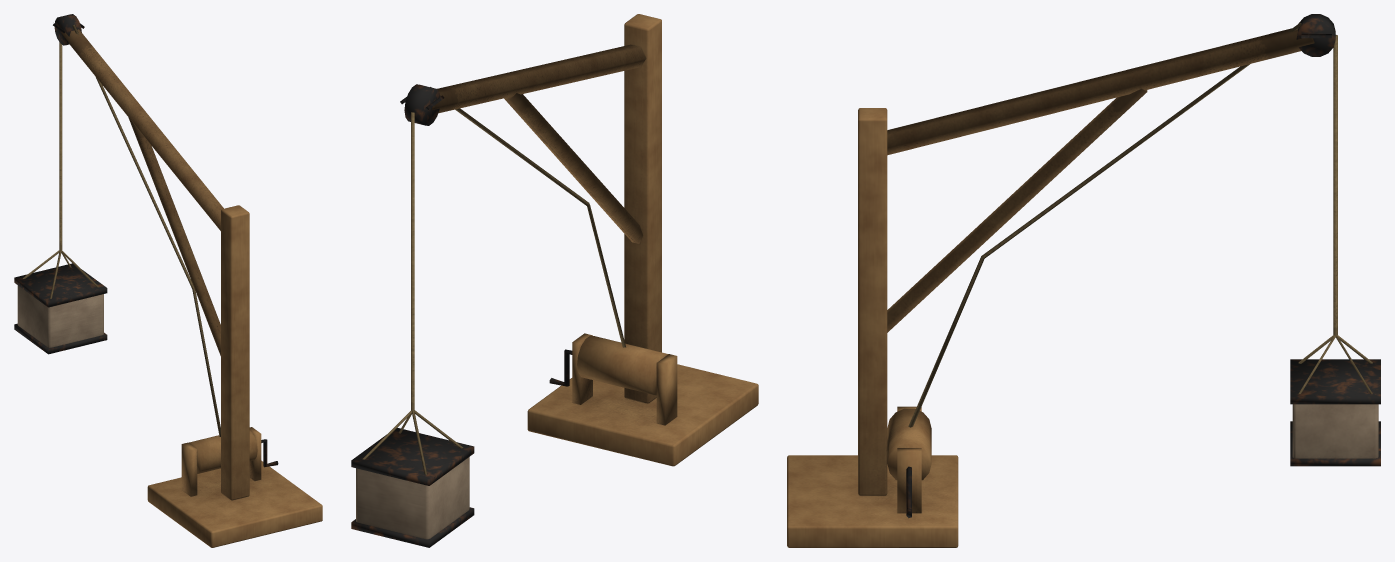
Rendered from hoist_crane.obj.
3 renders of one model, left to right at view 1: azimuth 30°, elevation 25°; view 2: azimuth 150°, elevation 25°; view 3: azimuth 270°, elevation 25°, orthographic. The views are drawn at different scales.
Parts seen in each view (by area): view 1: part0, part1, part3, part2; view 2: part0, part1, part3, part2; view 3: part0, part1, part3, part2.
Part boxes in pixels (box(x1,y1,x2,y2)): part0: box(61, 29, 322, 547); part1: box(14, 14, 278, 467); part3: box(17, 285, 103, 347); part2: box(22, 24, 220, 436); part0: box(432, 14, 758, 466); part1: box(351, 84, 572, 547); part3: box(356, 457, 469, 539); part2: box(362, 87, 625, 474); part0: box(787, 28, 1314, 547); part1: box(906, 14, 1380, 518); part3: box(1292, 404, 1378, 458); part2: box(908, 23, 1372, 427).
Size of the model in its own units: 1.4 by 4.46 by 4.85.
